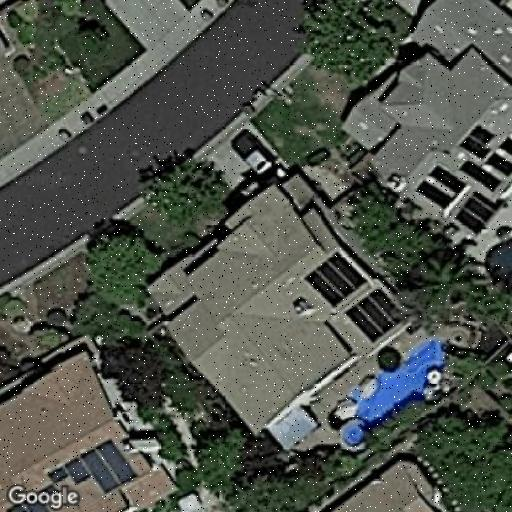solar-panel: (416, 124, 511, 230), (46, 436, 140, 492), (302, 248, 368, 310), (343, 284, 405, 344)
